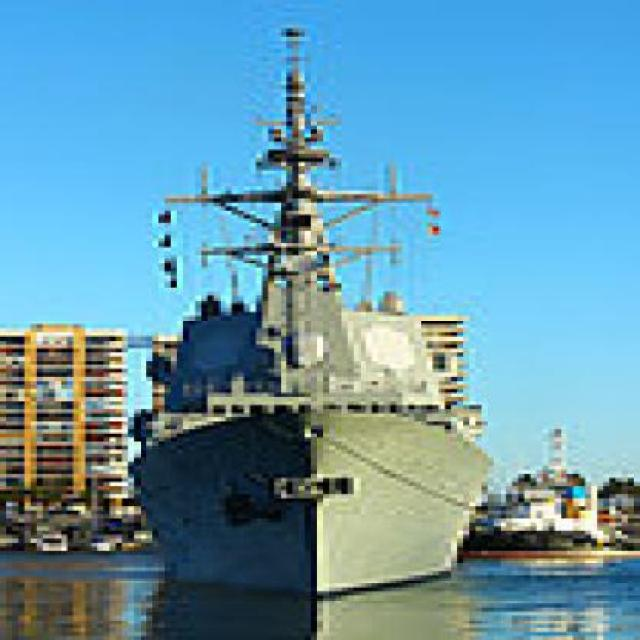warship2: (111, 5, 520, 592)
